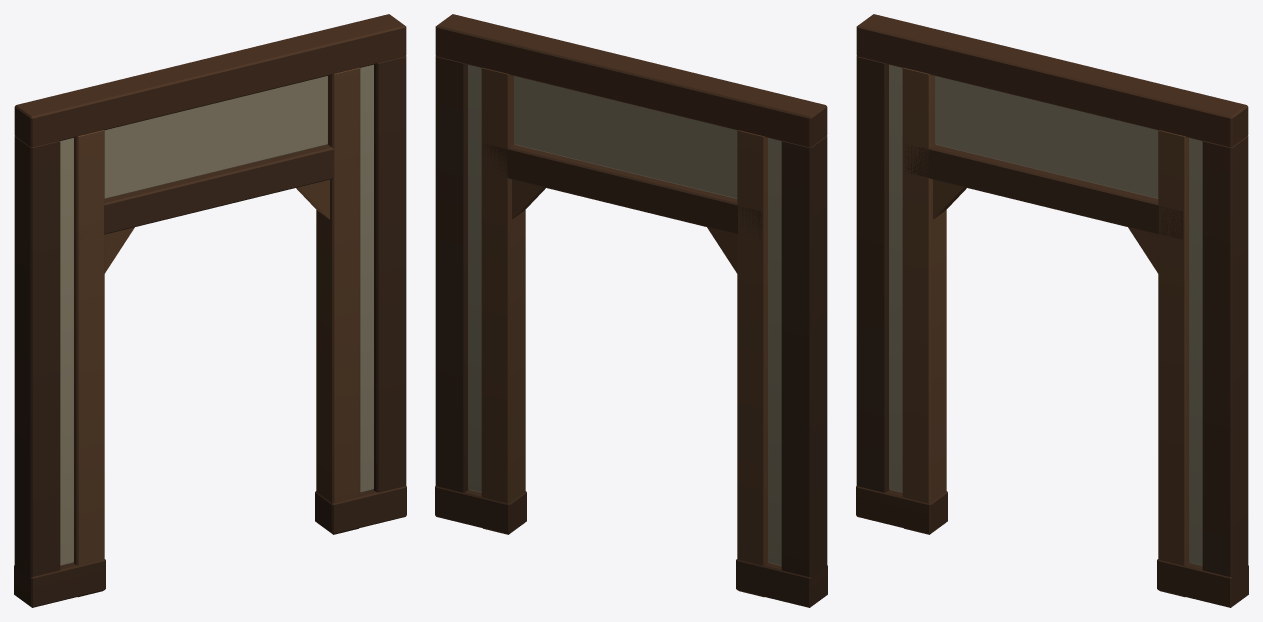
Rendered from piece_wooddoorway.glb.
The picture shows the model from 3 angles, left to right: view 1: azimuth 30°, elevation 25°; view 2: azimuth 150°, elevation 25°; view 3: azimuth 330°, elevation 25°; orthographic projection.
Parts seen in each view (by area): view 1: Base; view 2: Base; view 3: Base.
Boxes of the visible parts, bbox=[...] form: Base: bbox=[14, 14, 406, 607]; Base: bbox=[435, 14, 827, 607]; Base: bbox=[856, 14, 1248, 607].
Bounding box in the file's own units: 4 × 5 × 0.34.
